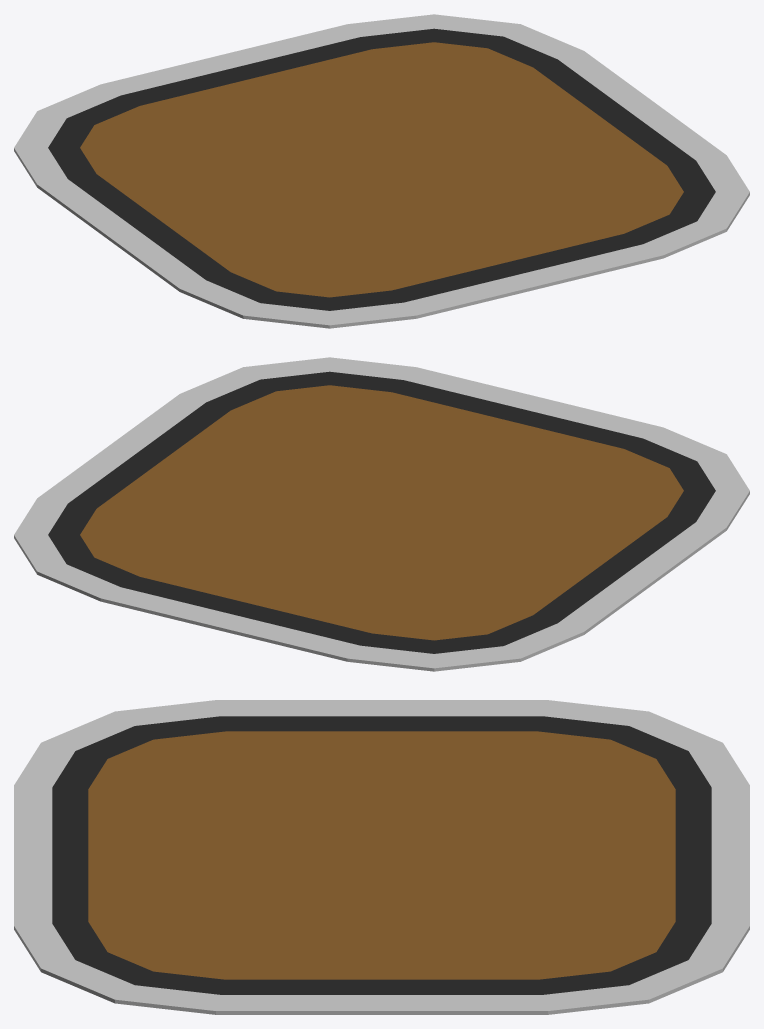
File: Carpet_4.fbx
3 views of the same model, one above another, from view 1: azimuth 30°, elevation 25°; view 2: azimuth 150°, elevation 25°; view 3: azimuth 270°, elevation 25° (orthographic). The views are drawn at different scales.
Visible parts, largest first — view 1: Carpet_4; view 2: Carpet_4; view 3: Carpet_4.
Part boxes in pixels (box(x1,y1,x2,y2)): Carpet_4: box(14, 14, 749, 328); Carpet_4: box(14, 357, 749, 671); Carpet_4: box(14, 700, 749, 1014).
Bounding box in the file's own units: 1.14 × 0.0065 × 1.14.
